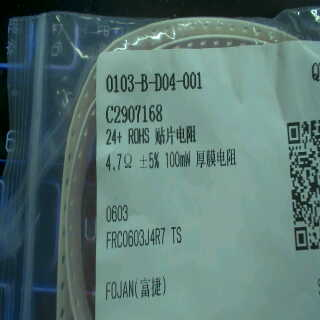4.7R: (103, 150, 134, 170)
